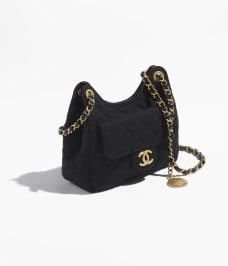channel: (61, 83, 192, 195), (134, 145, 162, 172)
